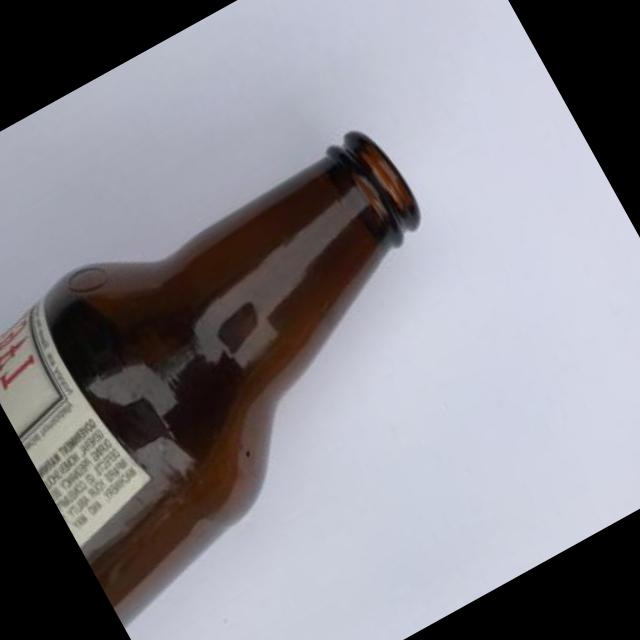BotolKaca: (0, 103, 524, 614)
